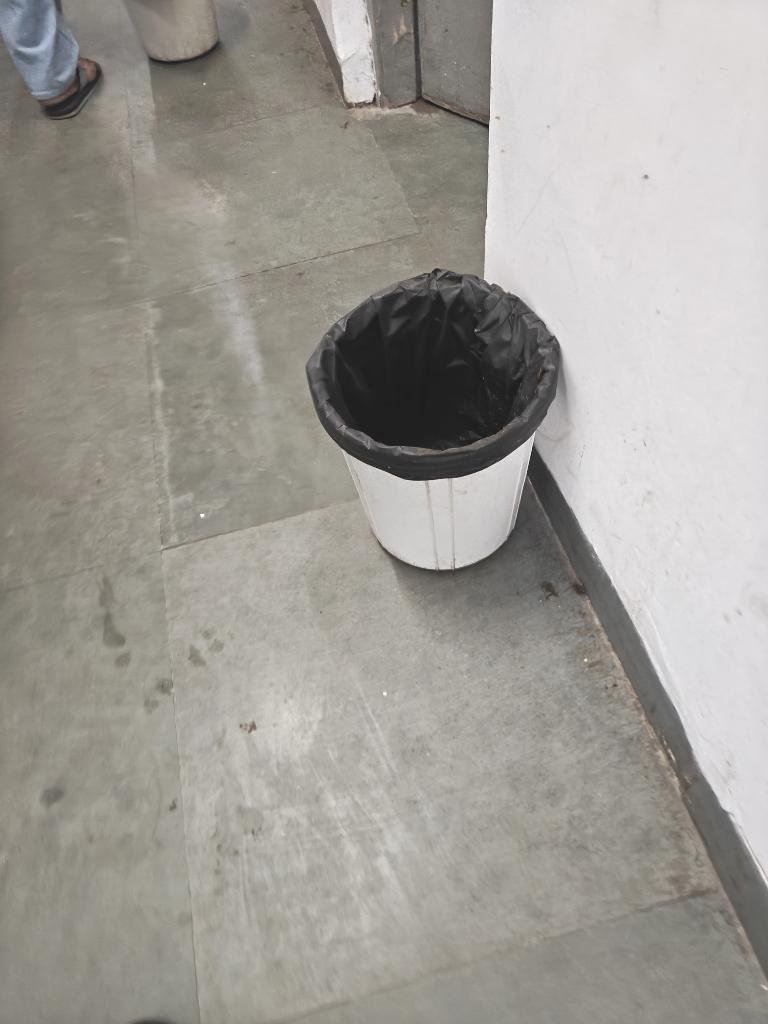dustbin: (265, 258, 602, 602)
